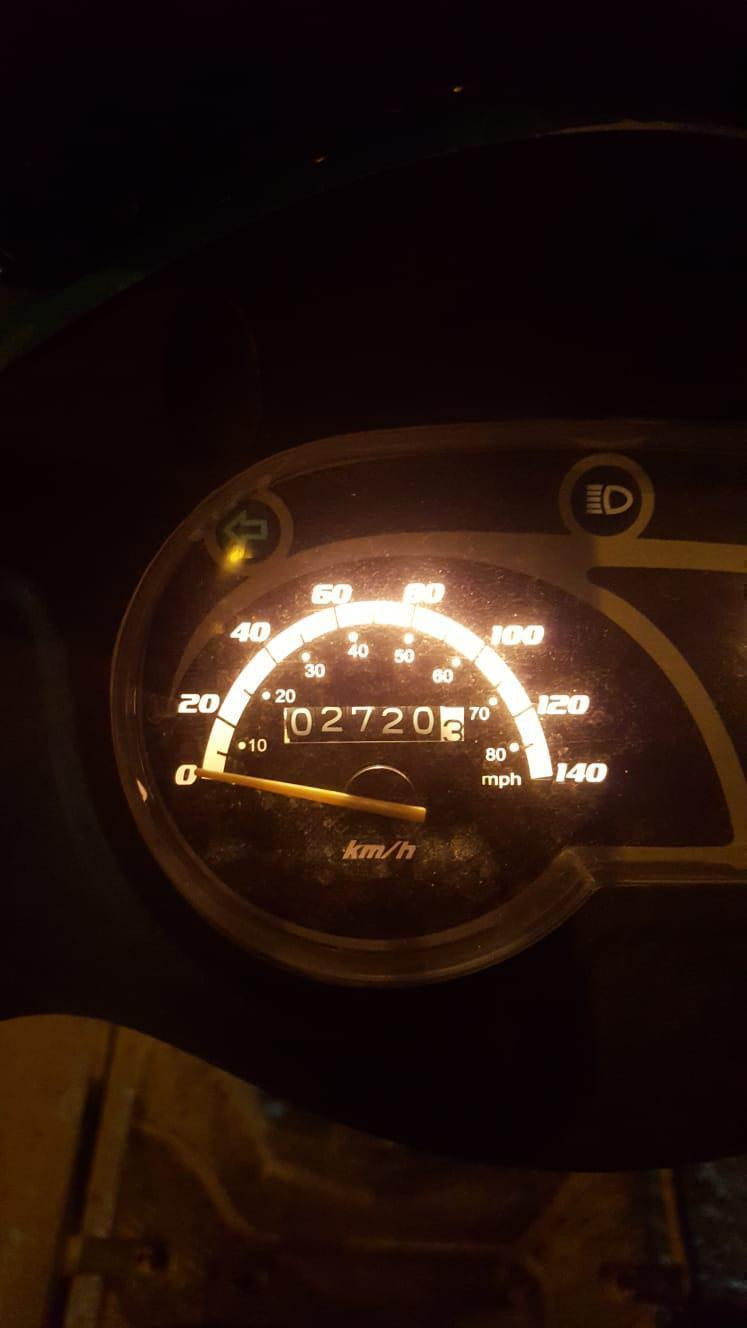0: (410, 705, 435, 737), (289, 705, 314, 736)
2: (320, 705, 344, 734), (381, 706, 404, 735)
3: (441, 717, 463, 743)
7: (351, 705, 374, 733)
odometer: (281, 703, 467, 747)
